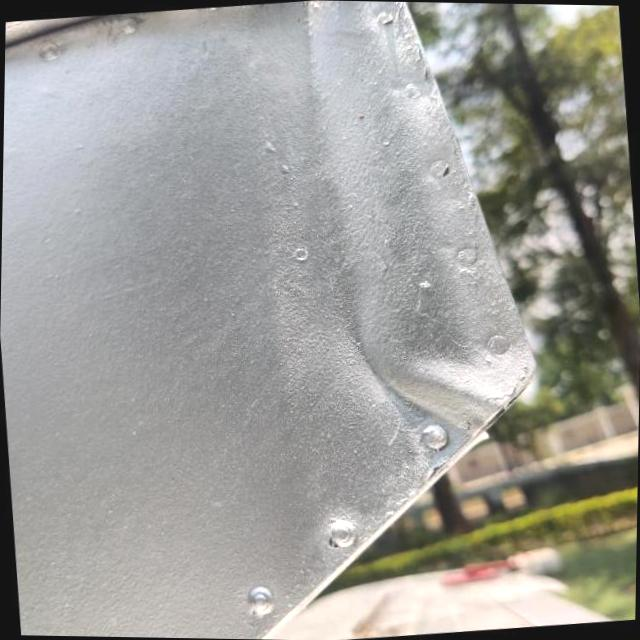dent: (351, 280, 537, 448)
